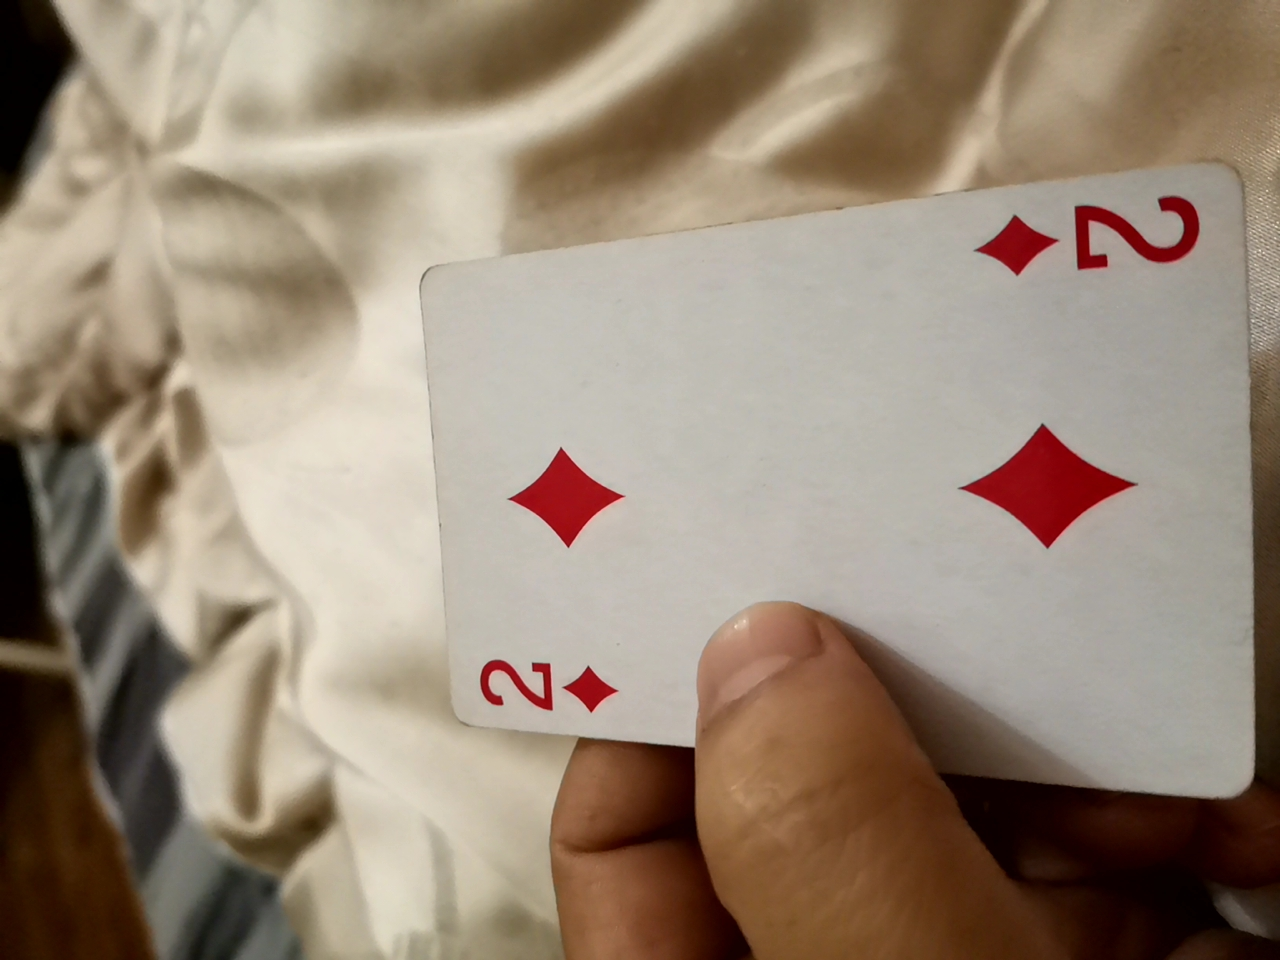fk 2: (394, 165, 1251, 815)
